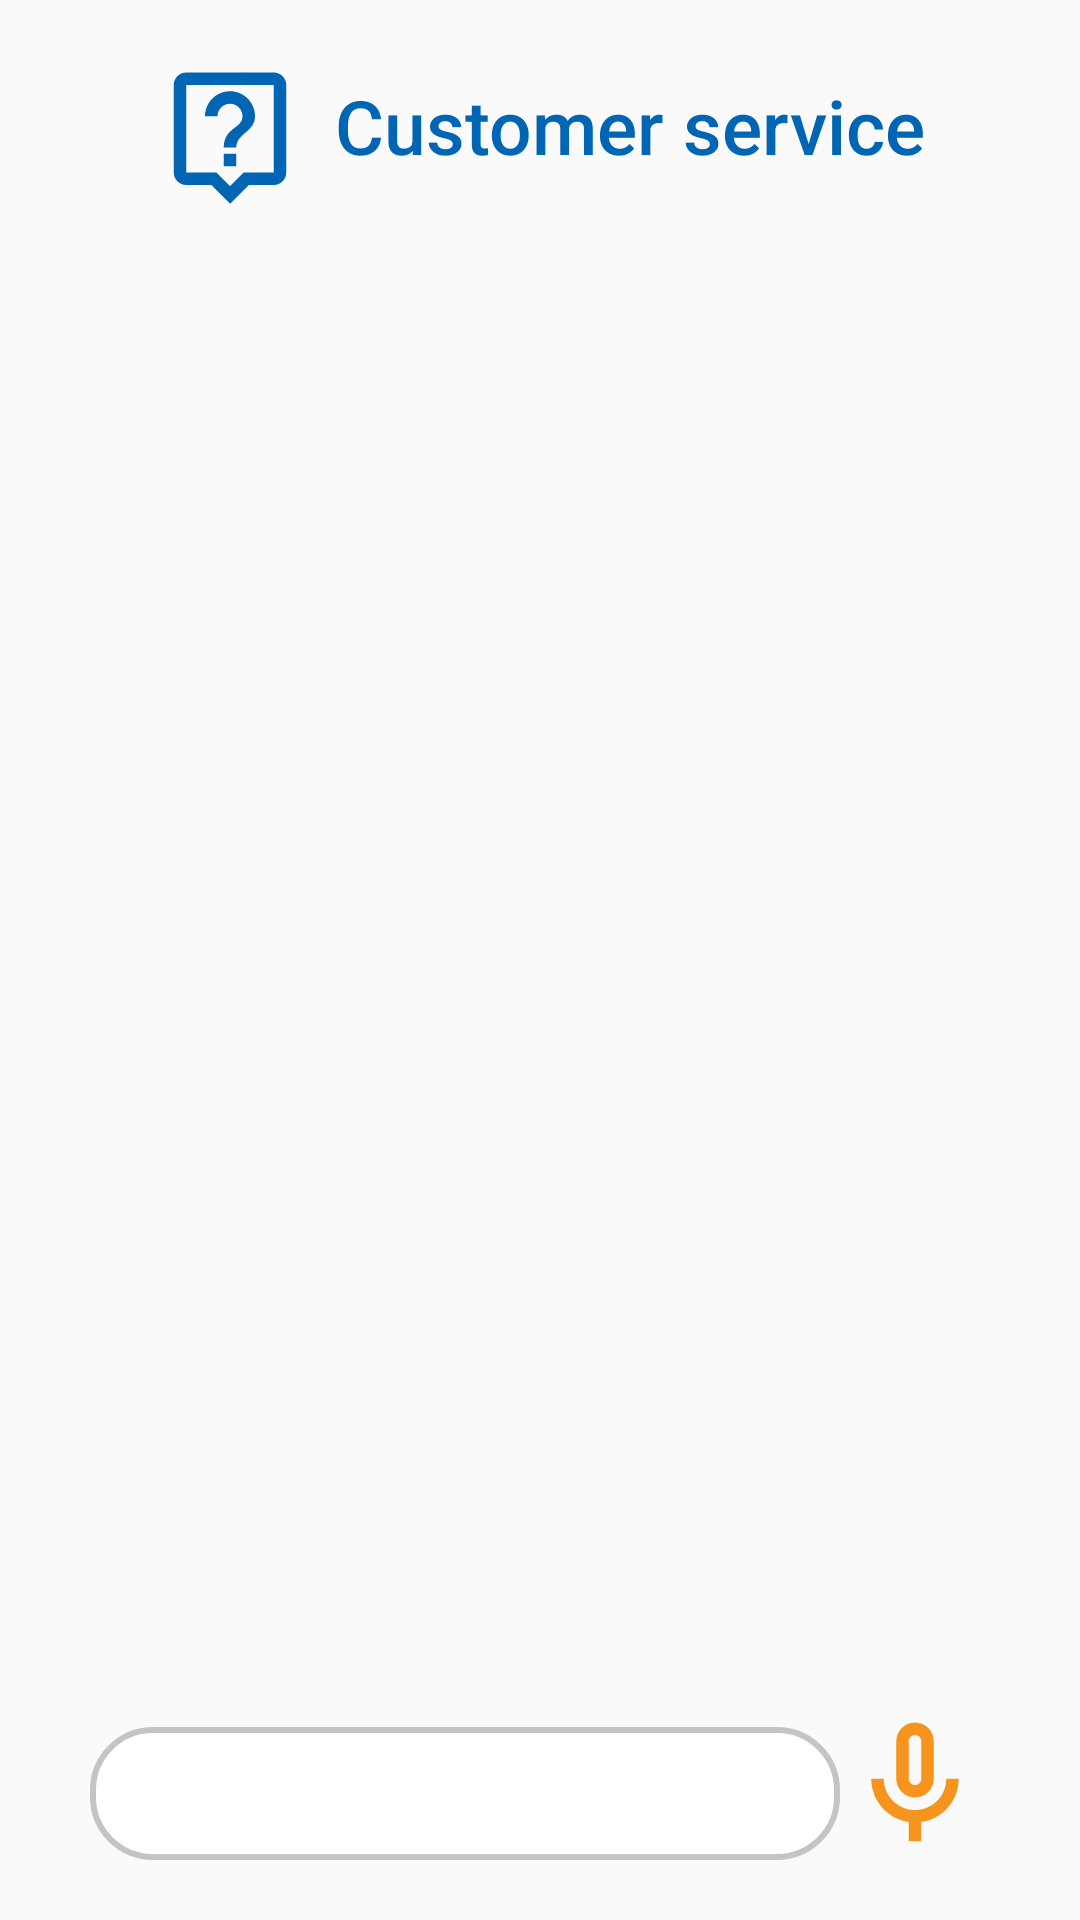

Named icons in this screenshot (1080x1920) and their bounding boxes, (x1, y1, x2, y2):
live help: (173, 72, 287, 204)
mic none: (871, 1722, 959, 1842)
